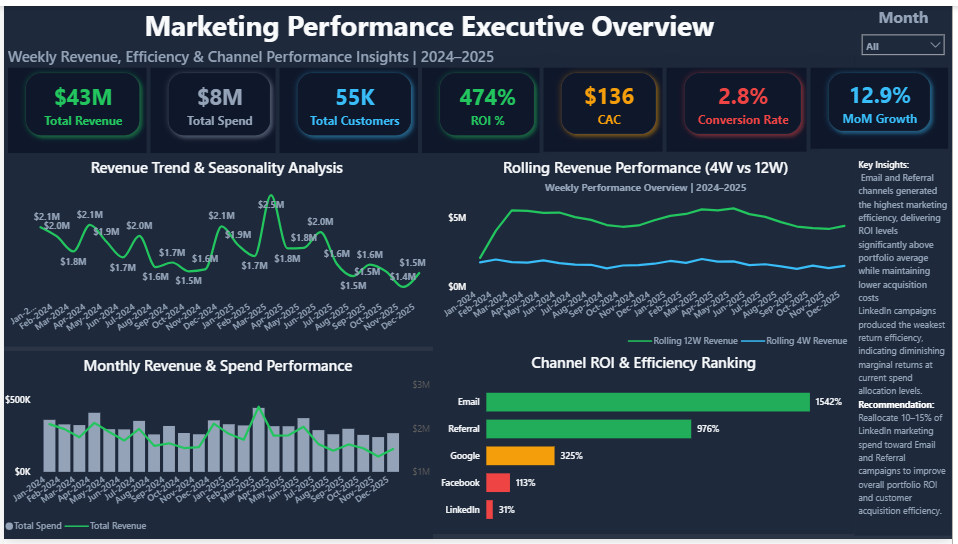

Layout of this report page (visuals, bound fields, positions):
{"tool":"powerbi","page":{"name":"Page 1","canvas":[1280,720],"ordinal":0},"visuals":[{"type":"cardVisual","fields":{"Data":["Measure.Total Revenue"]},"box":[0,60.8,212.7,143.8],"z":0},{"type":"cardVisual","fields":{"Data":["Measure.Total Spend"]},"box":[191.4,60.8,196.5,143.8],"z":1000},{"type":"cardVisual","fields":{"Data":["Measure.Total Customers"]},"box":[366.6,60.8,212.7,143.8],"z":2000},{"type":"cardVisual","fields":{"Data":["Measure.ROI"]},"box":[558,60.8,186.3,143.8],"z":3000},{"type":"cardVisual","fields":{"Data":["Measure.CAC"]},"box":[723,60.8,186.3,141.8],"z":4000},{"type":"cardVisual","fields":{"Data":["Measure.Conversion Rate"]},"box":[888.1,60.8,216.7,141.8],"z":5000},{"type":"cardVisual","fields":{"Data":["Measure.MoM Growth"]},"box":[1083.5,60.8,196.5,137.7],"z":6000},{"type":"lineChart","title":"Revenue Trend & Seasonality Analysis","fields":{"Category":["Calendar.YearMonth"],"Y":["Measure.Total Revenue"]},"box":[0,198.5,579.2,261.3],"z":7000},{"type":"lineClusteredColumnComboChart","title":"Monthly Revenue & Spend Performance","fields":{"Category":["Calendar.YearMonth"],"Y":["Measure.Total Spend"],"Y2":["Measure.Total Revenue"]},"box":[0,465.8,579.2,255.2],"z":8000},{"type":"clusteredBarChart","title":"Channel ROI & Efficiency Ranking","fields":{"Category":["marketing_performance.channel"],"Y":["Measure.ROI %"]},"box":[579.2,457.7,569.1,255.2],"z":9000},{"type":"lineChart","title":"Rolling Revenue Performance (4W vs 12W)","fields":{"Y":["Measure.Rolling 12W Revenue","Measure.Rolling 4W Revenue"],"Category":["Calendar.YearMonth"]},"box":[579.2,198.5,569.1,267.3],"z":10000},{"type":"textbox","title":"Marketing Performance Executive Overview","box":[0,0,1148.4,83],"z":11000},{"type":"textbox","box":[1148.4,198.5,131.6,516.5],"z":12000},{"type":"slicer","title":"Month","fields":{"Values":["Calendar.YearMonth"]},"box":[1148.4,0,131.6,83],"z":13000}]}

Visuals, with their boxes in screenshot pixels (x1, y1, x2, y2), scaled from the page's 1280x720 canvas onto the 958x544 screenshot:
cardVisual - Measure.Total Revenue: locate(0, 46, 159, 155)
cardVisual - Measure.Total Spend: locate(143, 46, 290, 155)
cardVisual - Measure.Total Customers: locate(274, 46, 434, 155)
cardVisual - Measure.ROI: locate(418, 46, 557, 155)
cardVisual - Measure.CAC: locate(541, 46, 681, 153)
cardVisual - Measure.Conversion Rate: locate(665, 46, 827, 153)
cardVisual - Measure.MoM Growth: locate(811, 46, 957, 150)
"Revenue Trend & Seasonality Analysis" lineChart: locate(0, 150, 433, 347)
"Monthly Revenue & Spend Performance" lineClusteredColumnComboChart: locate(0, 352, 433, 543)
"Channel ROI & Efficiency Ranking" clusteredBarChart: locate(433, 346, 859, 539)
"Rolling Revenue Performance (4W vs 12W)" lineChart: locate(433, 150, 859, 352)
"Marketing Performance Executive Overview" textbox: locate(0, 0, 860, 63)
textbox: locate(860, 150, 957, 540)
"Month" slicer: locate(860, 0, 957, 63)
